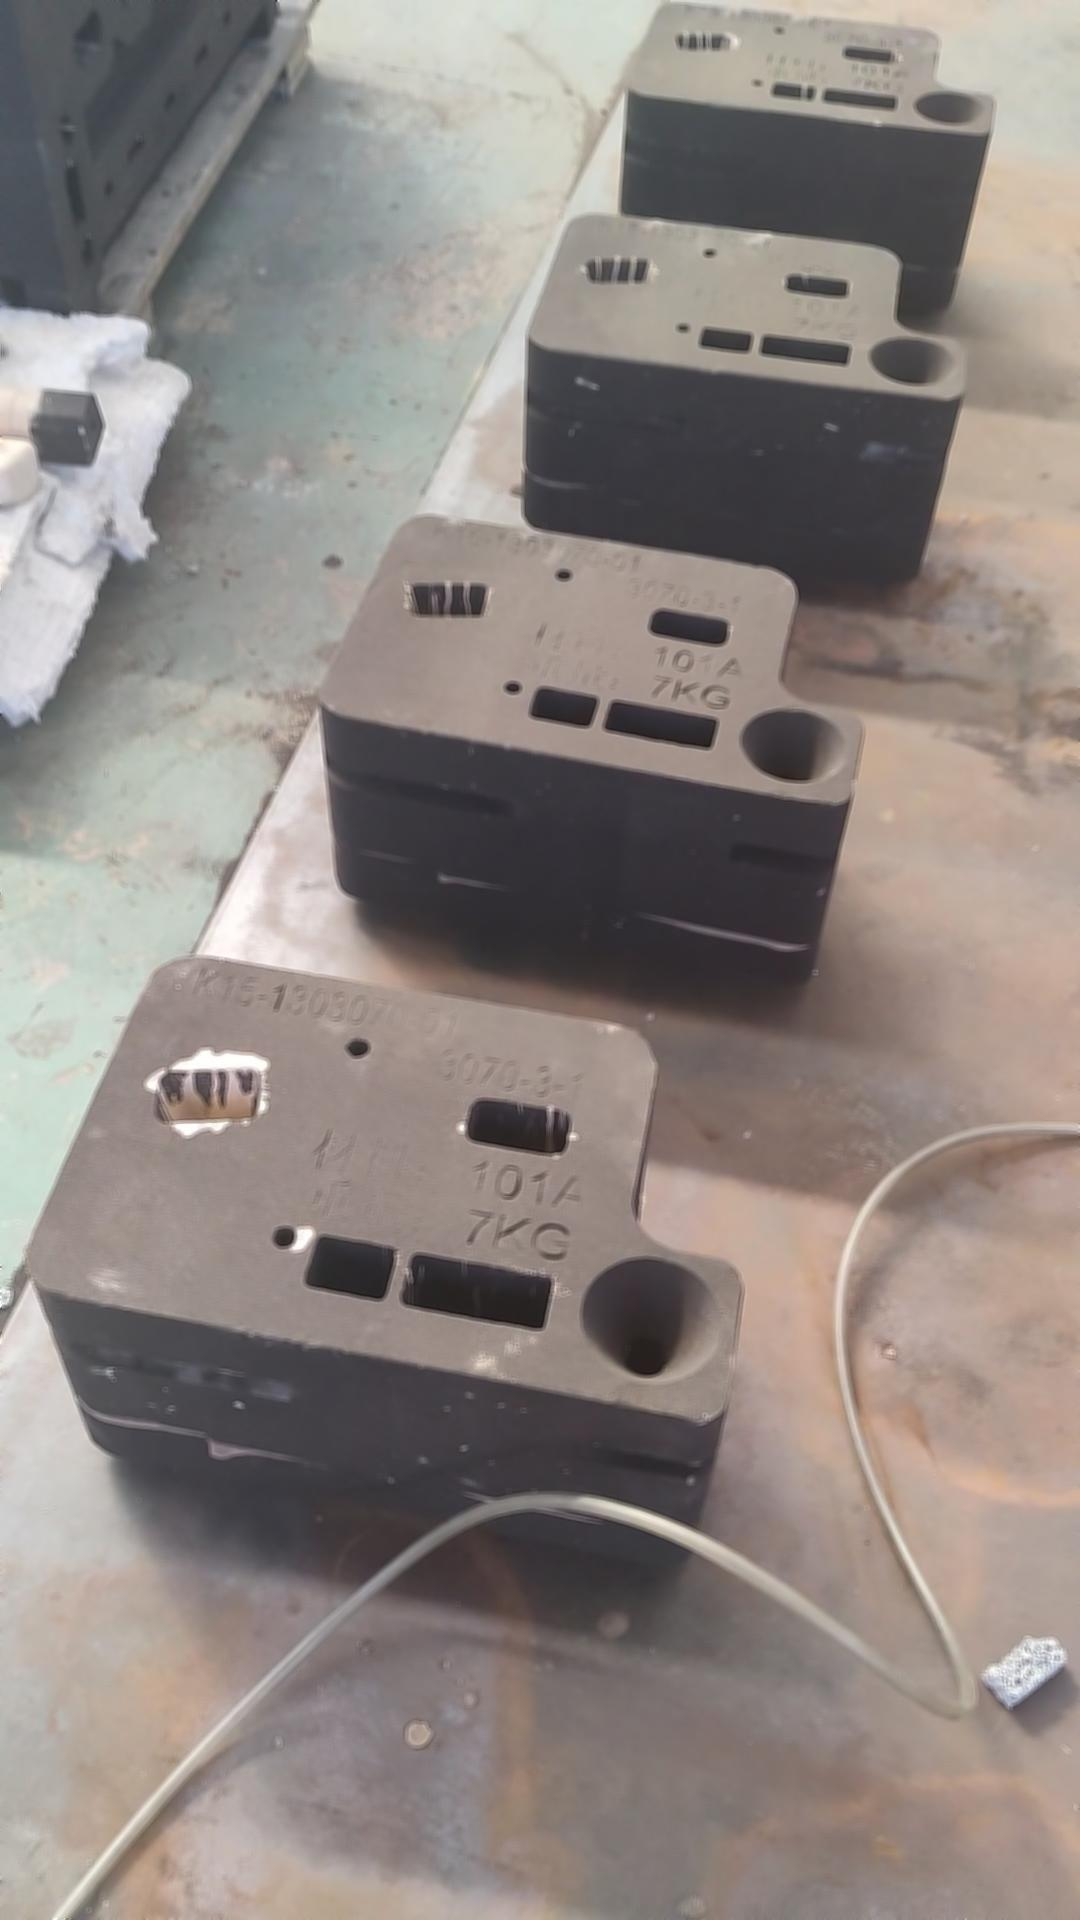pouring hole: (582, 1261, 721, 1385), (738, 709, 847, 785), (866, 336, 956, 388), (914, 91, 985, 127)
